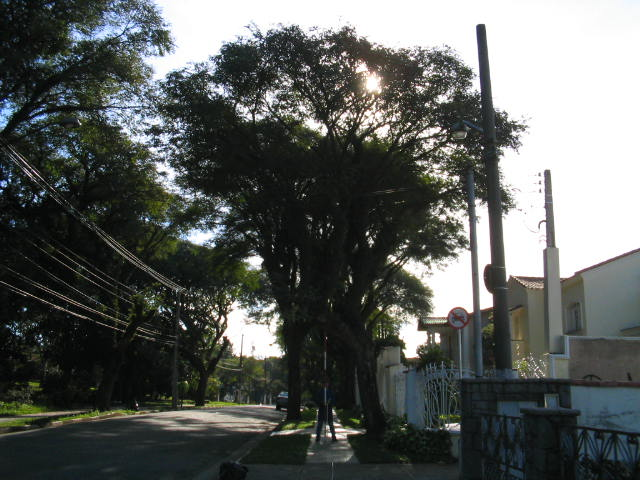crown: (158, 20, 532, 278)
stem: (345, 349, 394, 433), (275, 328, 312, 419), (190, 370, 217, 407)
stick: (314, 330, 336, 443)
tree: (156, 20, 532, 434), (155, 240, 260, 407)
